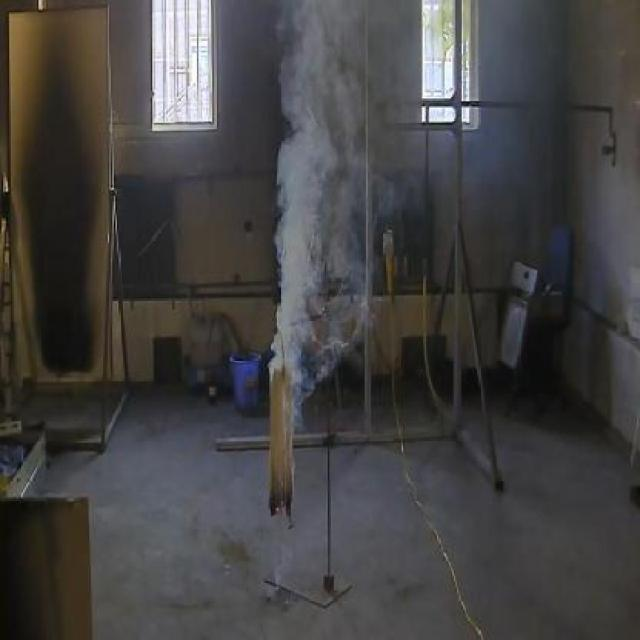fire: (267, 0, 378, 358)
